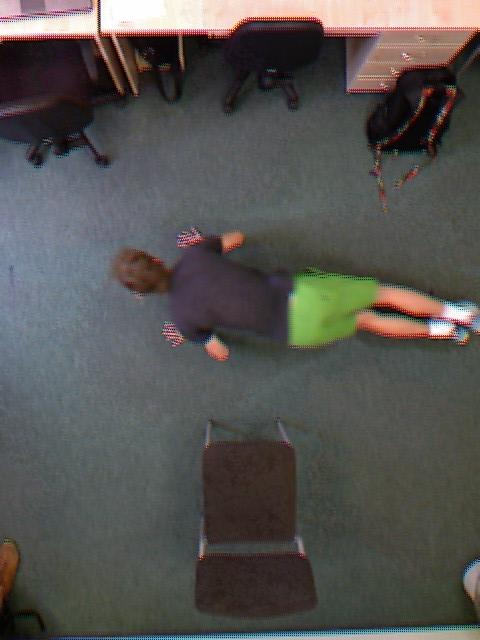fall: (225, 41, 347, 546)
